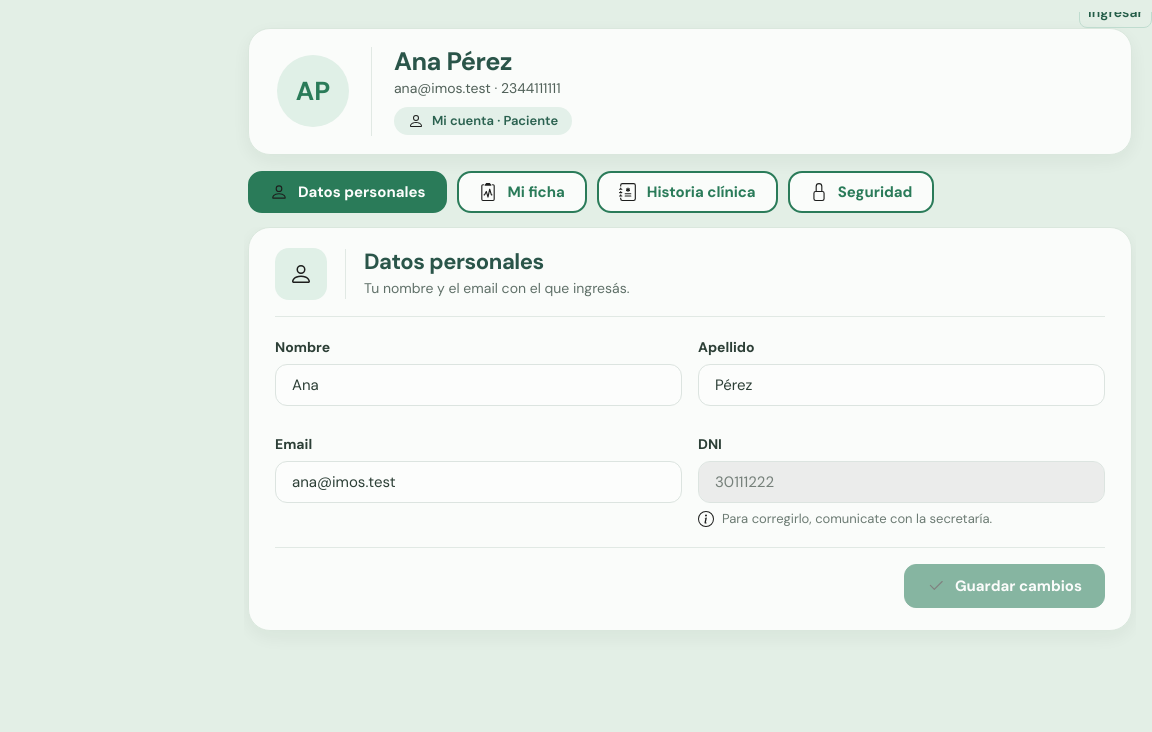
Test: VerUsuario: qué ve cada uno › el paciente en Mi cuenta (propio) › 'Mi ficha' con cobertura muestra obra social, plan y afiliado
Click the tab "Mi ficha": (522, 192) [458,171,587,213]
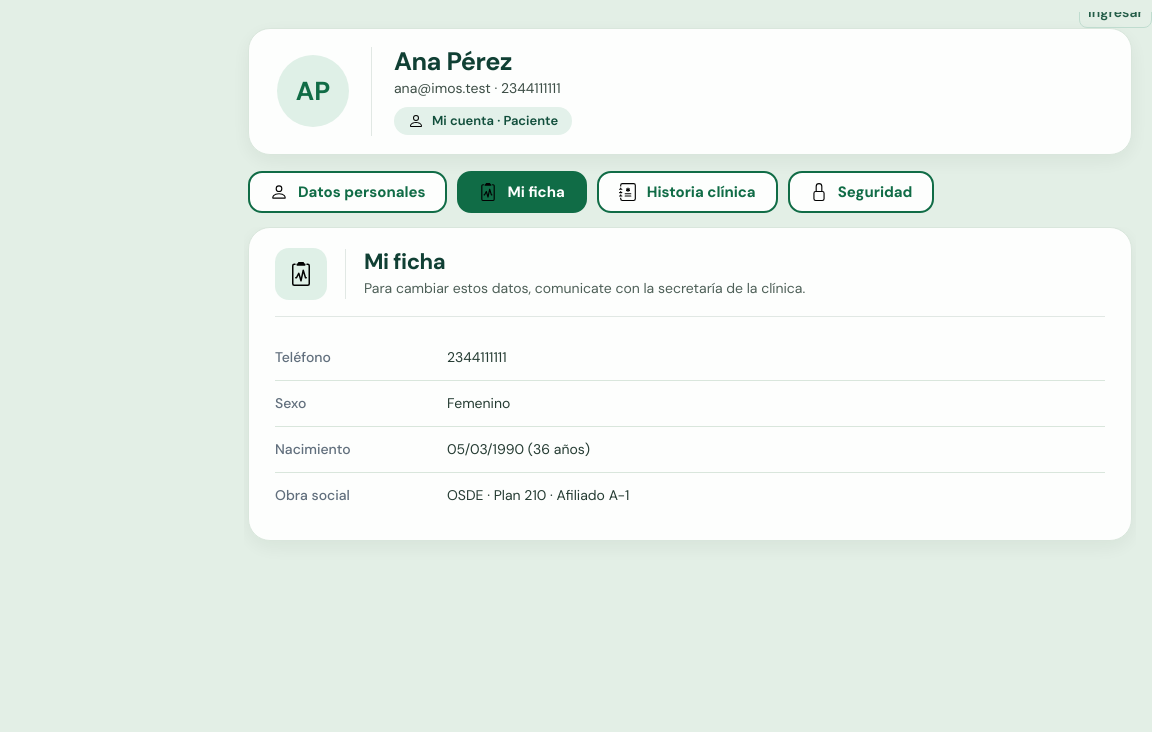
Expected: the text "OSDE · Plan 210 · Afiliado A-1" is shown, [447,486,630,504]
